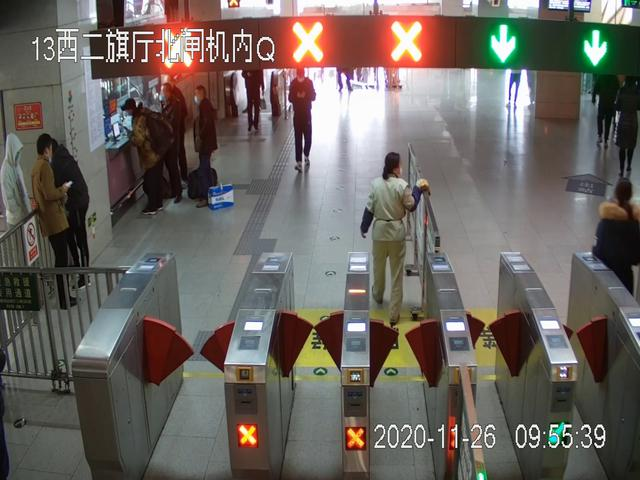person: (360, 152, 432, 324), (31, 134, 81, 308), (46, 137, 91, 290), (121, 98, 176, 216), (592, 177, 640, 307), (1, 134, 33, 267), (192, 85, 219, 208), (158, 83, 189, 182), (289, 68, 317, 173), (615, 76, 639, 178), (592, 71, 615, 146)
